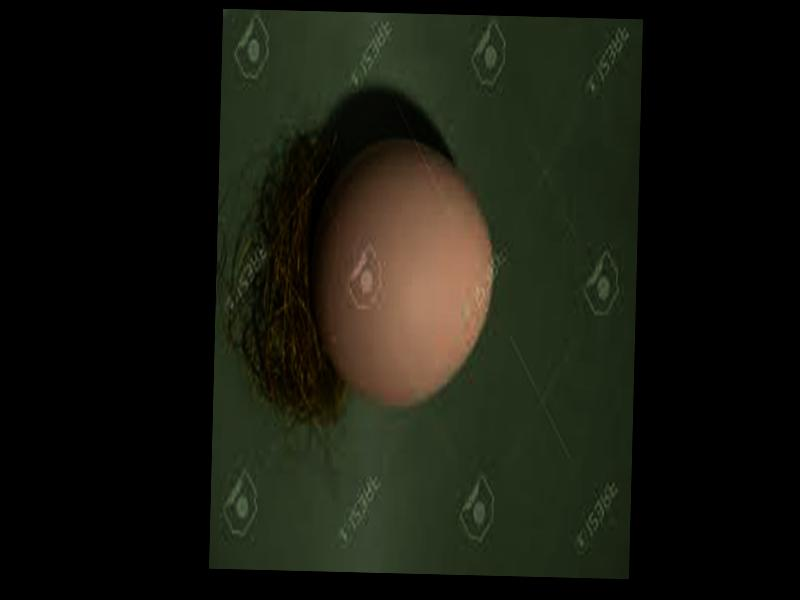Eggs: (310, 136, 497, 407)
